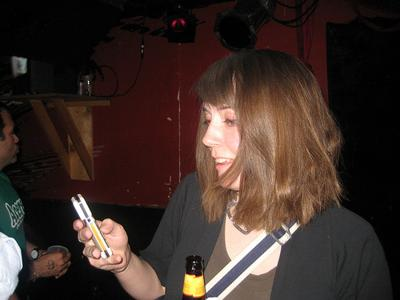person: (73, 46, 394, 300)
